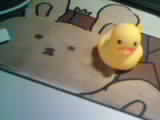duck: (95, 16, 139, 66)
